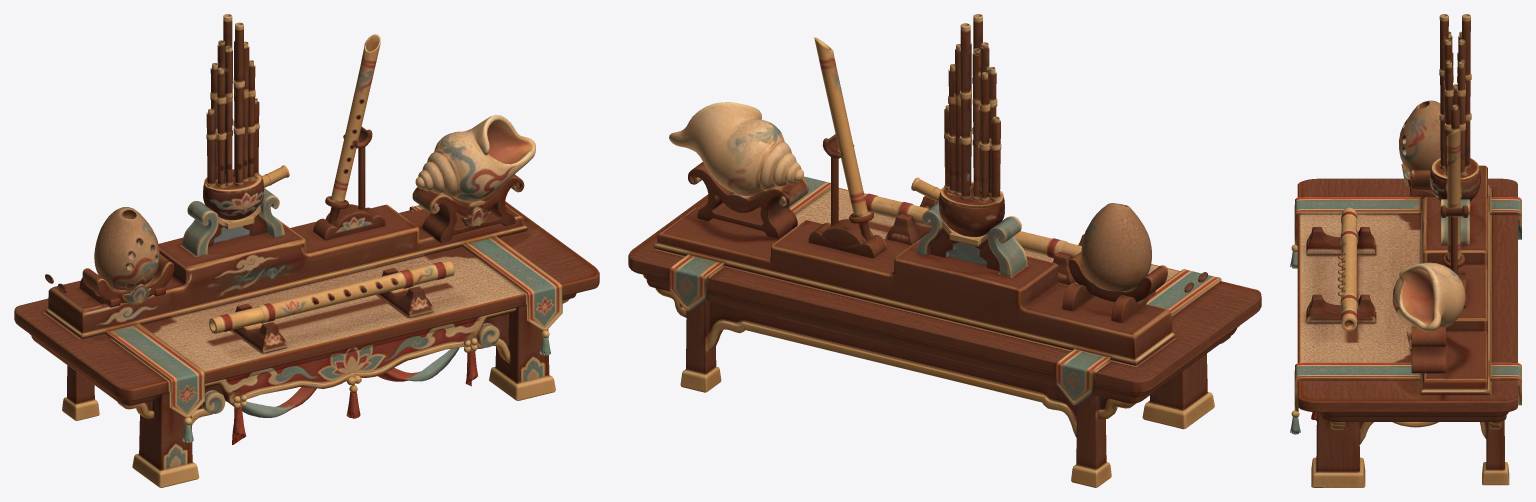
File: winds-mobile.glb
3 renders of one model, left to right at view 1: azimuth 30°, elevation 25°; view 2: azimuth 150°, elevation 25°; view 3: azimuth 270°, elevation 25°, orthographic. The views are drawn at different scales.
Visible parts, largest first — view 1: e418b08b_26ff_4ebd_a97c_c89c9496bab6; view 2: e418b08b_26ff_4ebd_a97c_c89c9496bab6; view 3: e418b08b_26ff_4ebd_a97c_c89c9496bab6.
Boxes of the visible parts, x1,y1,x2,y2 form: e418b08b_26ff_4ebd_a97c_c89c9496bab6: (14,14,599,487); e418b08b_26ff_4ebd_a97c_c89c9496bab6: (628,14,1261,487); e418b08b_26ff_4ebd_a97c_c89c9496bab6: (1290,14,1521,487).
Size of the model in its own units: 0.9995 by 0.7446 by 0.437.
1 material, 1 textured.
